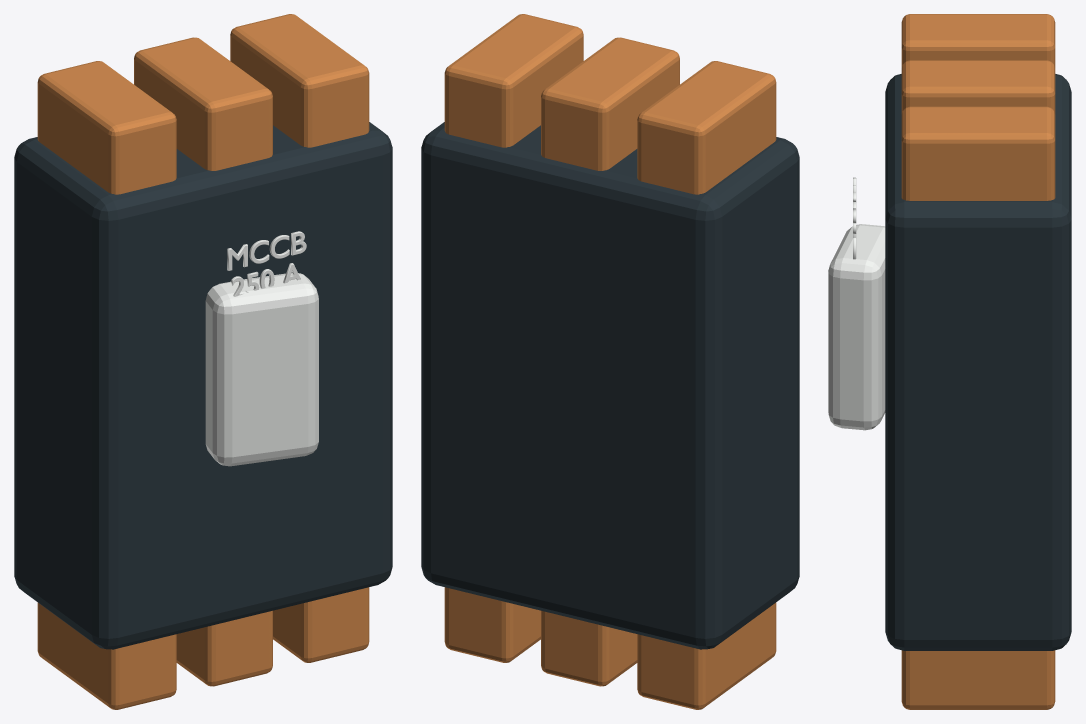
Rendered from molded_case_breaker.glb.
3 views of the same model, side by side, from view 1: azimuth 30°, elevation 25°; view 2: azimuth 150°, elevation 25°; view 3: azimuth 270°, elevation 25° (orthographic).
Parts seen in each view (by area): view 1: MCCB_BODY, KIN_BREAKER_HANDLE, LINE_LUG_-0.2, LINE_LUG_0.2, LINE_LUG_0, LOAD_LUG_-0.2, LOAD_LUG_0.2, LOAD_LUG_0, BREAKER_LABEL; view 2: MCCB_BODY, LINE_LUG_-0.2, LINE_LUG_0.2, LINE_LUG_0, LOAD_LUG_-0.2, LOAD_LUG_0.2, LOAD_LUG_0; view 3: MCCB_BODY, LINE_LUG_0.2, KIN_BREAKER_HANDLE, LOAD_LUG_0.2, LINE_LUG_0, LINE_LUG_-0.2.
Boxes of the visible parts, x1,y1,x2,y2 form: MCCB_BODY: [14, 122, 392, 649]; KIN_BREAKER_HANDLE: [205, 272, 318, 466]; LINE_LUG_-0.2: [37, 61, 176, 194]; LINE_LUG_0.2: [230, 14, 369, 147]; LINE_LUG_0: [134, 37, 272, 170]; LOAD_LUG_-0.2: [37, 602, 176, 709]; LOAD_LUG_0.2: [273, 587, 369, 662]; LOAD_LUG_0: [176, 610, 272, 686]; BREAKER_LABEL: [227, 231, 306, 296]; MCCB_BODY: [421, 122, 799, 649]; LINE_LUG_-0.2: [637, 61, 776, 194]; LINE_LUG_0.2: [444, 14, 583, 147]; LINE_LUG_0: [541, 37, 679, 170]; LOAD_LUG_-0.2: [637, 602, 776, 709]; LOAD_LUG_0.2: [444, 587, 540, 662]; LOAD_LUG_0: [541, 610, 637, 686]; MCCB_BODY: [885, 74, 1071, 650]; LINE_LUG_0.2: [901, 106, 1055, 200]; KIN_BREAKER_HANDLE: [828, 224, 885, 430]; LOAD_LUG_0.2: [901, 650, 1055, 709]; LINE_LUG_0: [901, 60, 1055, 114]; LINE_LUG_-0.2: [901, 14, 1055, 67].
Size of the model in its own units: 0.62 by 1.16 by 0.4439.
